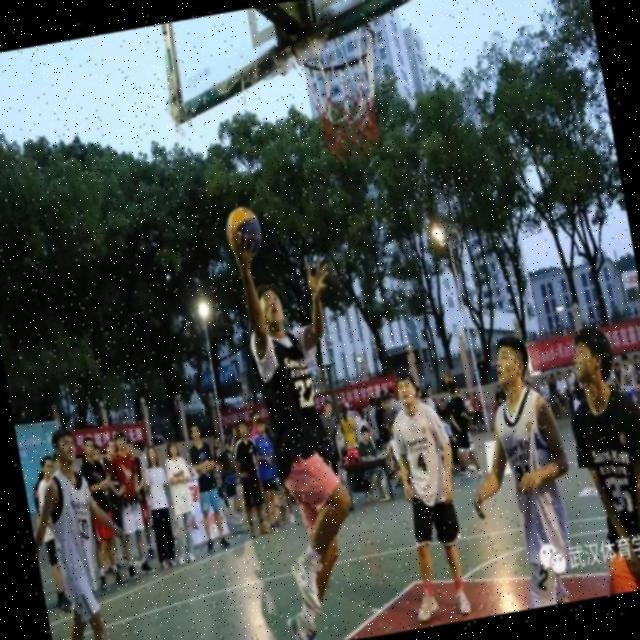ball: (220, 202, 266, 262)
